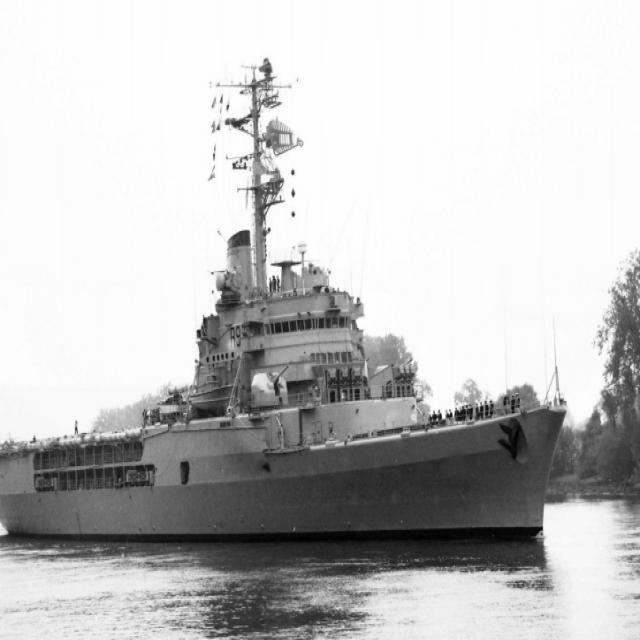Portanaves: (1, 53, 572, 553)
